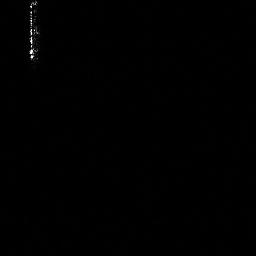ship: (24, 1, 41, 65)
